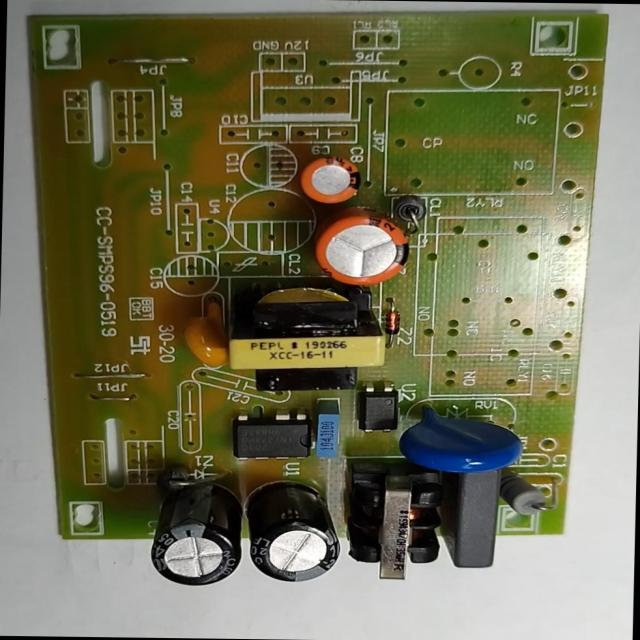Cap1: (316, 202, 412, 289)
Cap2: (298, 154, 362, 205)
Cap3: (244, 482, 340, 584)
Cap4: (152, 484, 244, 586)
MOSFET: (231, 413, 315, 462)
Mov: (396, 408, 520, 474)
Resistor: (499, 475, 552, 518)
Transformer: (224, 282, 385, 393), (348, 469, 444, 582)
